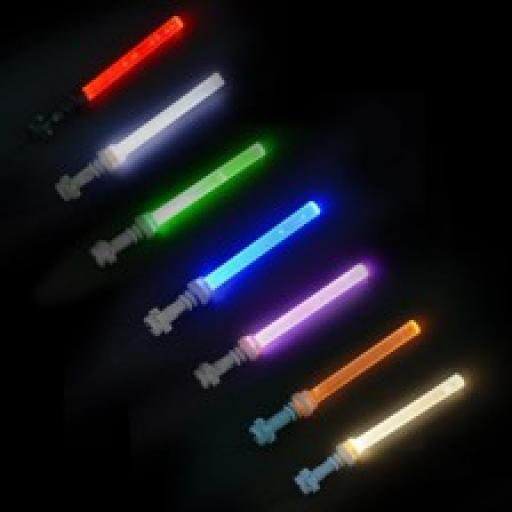lightsaber: (141, 198, 321, 337), (192, 260, 371, 392), (249, 316, 422, 448), (89, 142, 270, 268), (54, 70, 226, 201), (296, 374, 468, 494), (32, 15, 188, 138)
